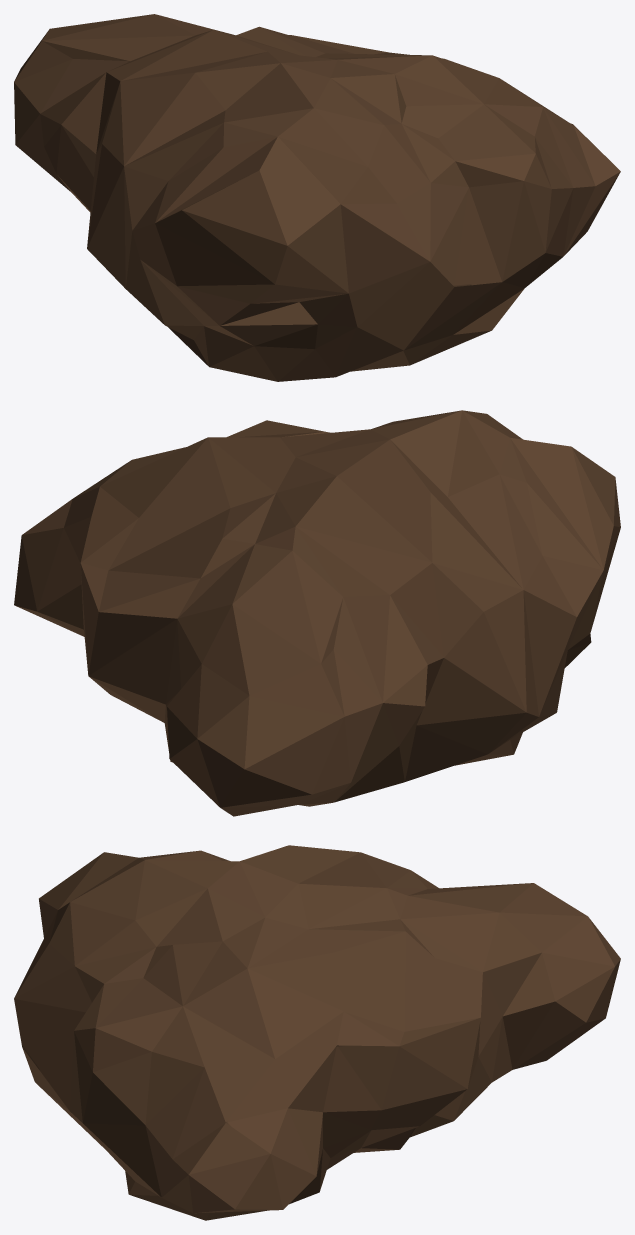
Rendered from my_mesh_rock SubTool6.glb.
3 views of the same model, one above another, from view 1: azimuth 30°, elevation 25°; view 2: azimuth 150°, elevation 25°; view 3: azimuth 270°, elevation 25° (orthographic). The views are drawn at different scales.
Parts seen in each view (by area): view 1: rock SubTool6; view 2: rock SubTool6; view 3: rock SubTool6.
Boxes of the visible parts, x1=… form: rock SubTool6: x1=14, y1=14, x2=620, y2=381; rock SubTool6: x1=14, y1=410, x2=620, y2=816; rock SubTool6: x1=14, y1=845, x2=620, y2=1220.
Size of the model in its own units: 47.58 by 29.21 by 52.46.
Materials: 1 (1 with a texture image).
